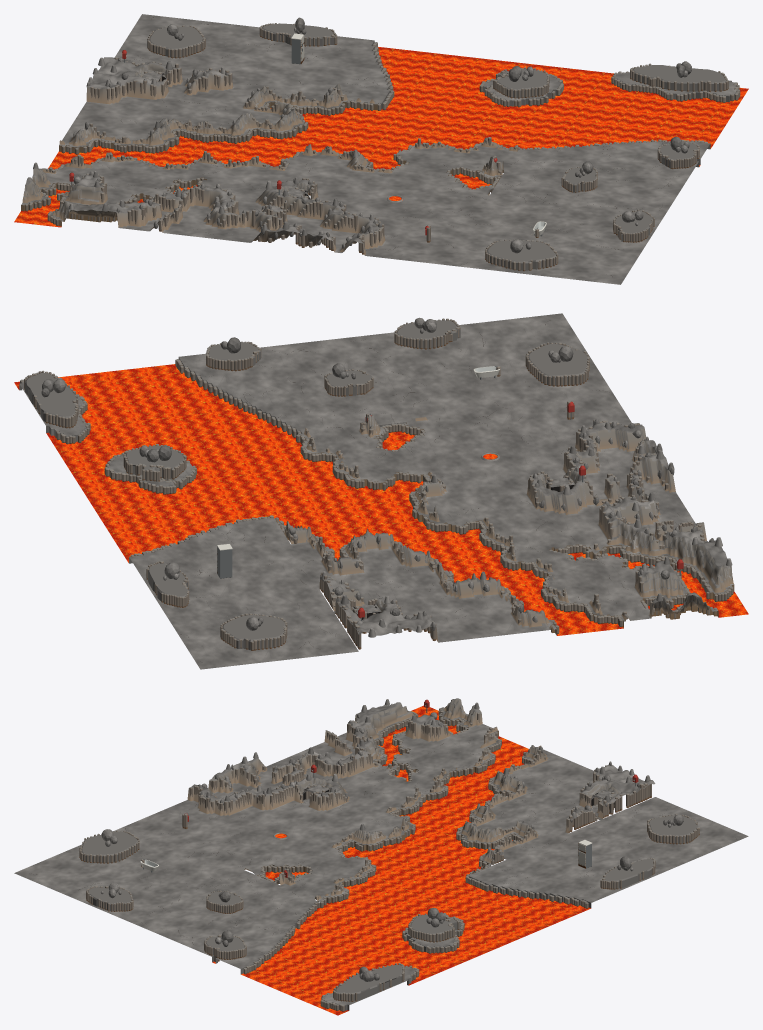
File: terrain-props.glb
3 views of the same model, one above another, from view 1: azimuth 30°, elevation 25°; view 2: azimuth 150°, elevation 25°; view 3: azimuth 270°, elevation 25° (orthographic). The views are drawn at different scales.
Visible parts, largest first — view 1: HM15-runtime-terrain; view 2: HM15-runtime-terrain; view 3: HM15-runtime-terrain.
Boxes of the visible parts, box(x1,y1,x2,y2) form: HM15-runtime-terrain: box(14, 14, 748, 284); HM15-runtime-terrain: box(14, 313, 748, 669); HM15-runtime-terrain: box(14, 698, 748, 1015).
Size of the model in its own units: 144 by 7.11 by 144.
Materials: 15 (4 with a texture image).
